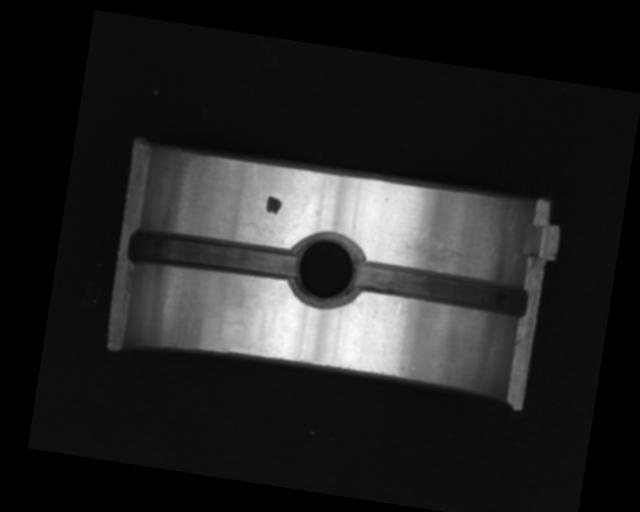blot: (264, 195, 283, 216)
gap: (350, 258, 531, 319), (126, 225, 297, 284)
hole: (285, 228, 365, 310)
nick: (381, 301, 402, 358)
scratch: (395, 226, 497, 279)
